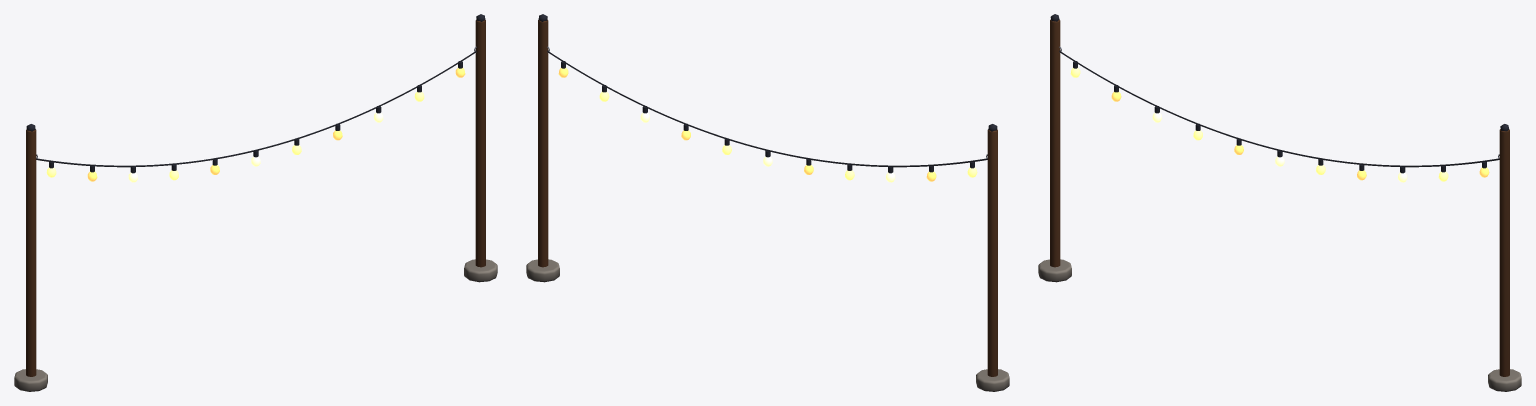
Rendered from guirlande_ampoules.glb.
The picture shows the model from 3 angles, left to right: view 1: azimuth 30°, elevation 25°; view 2: azimuth 150°, elevation 25°; view 3: azimuth 330°, elevation 25°; orthographic projection.
Visible parts, largest first — view 1: guirlande_ampoules; view 2: guirlande_ampoules; view 3: guirlande_ampoules.
Boxes of the visible parts, <box> form: guirlande_ampoules: <box>14,14,497,391</box>; guirlande_ampoules: <box>526,14,1009,391</box>; guirlande_ampoules: <box>1038,14,1521,391</box>.
Size of the model in its own units: 6.38 by 3.34 by 0.4.
